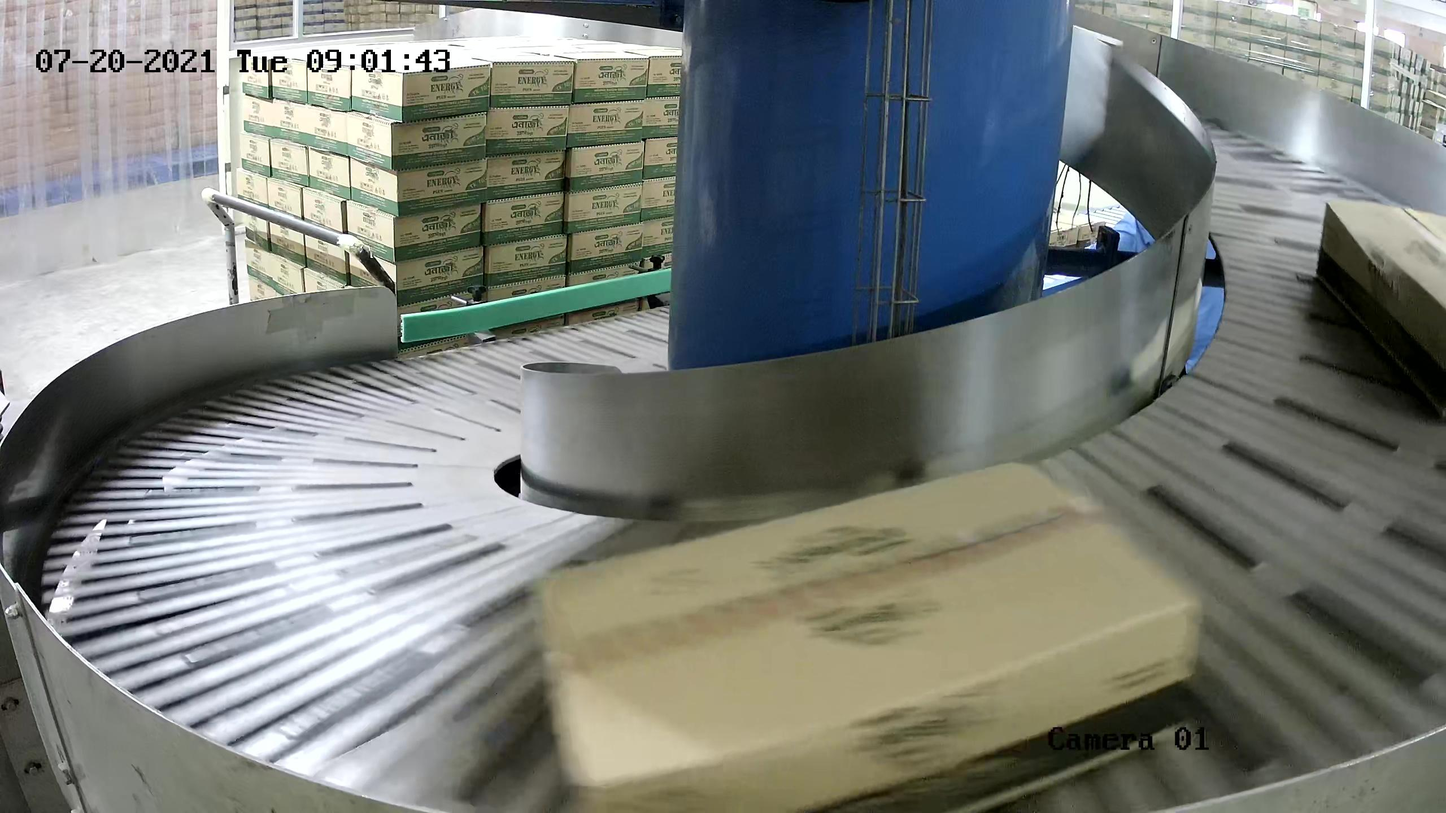Box: (533, 456, 1208, 813), (1314, 199, 1446, 421)
